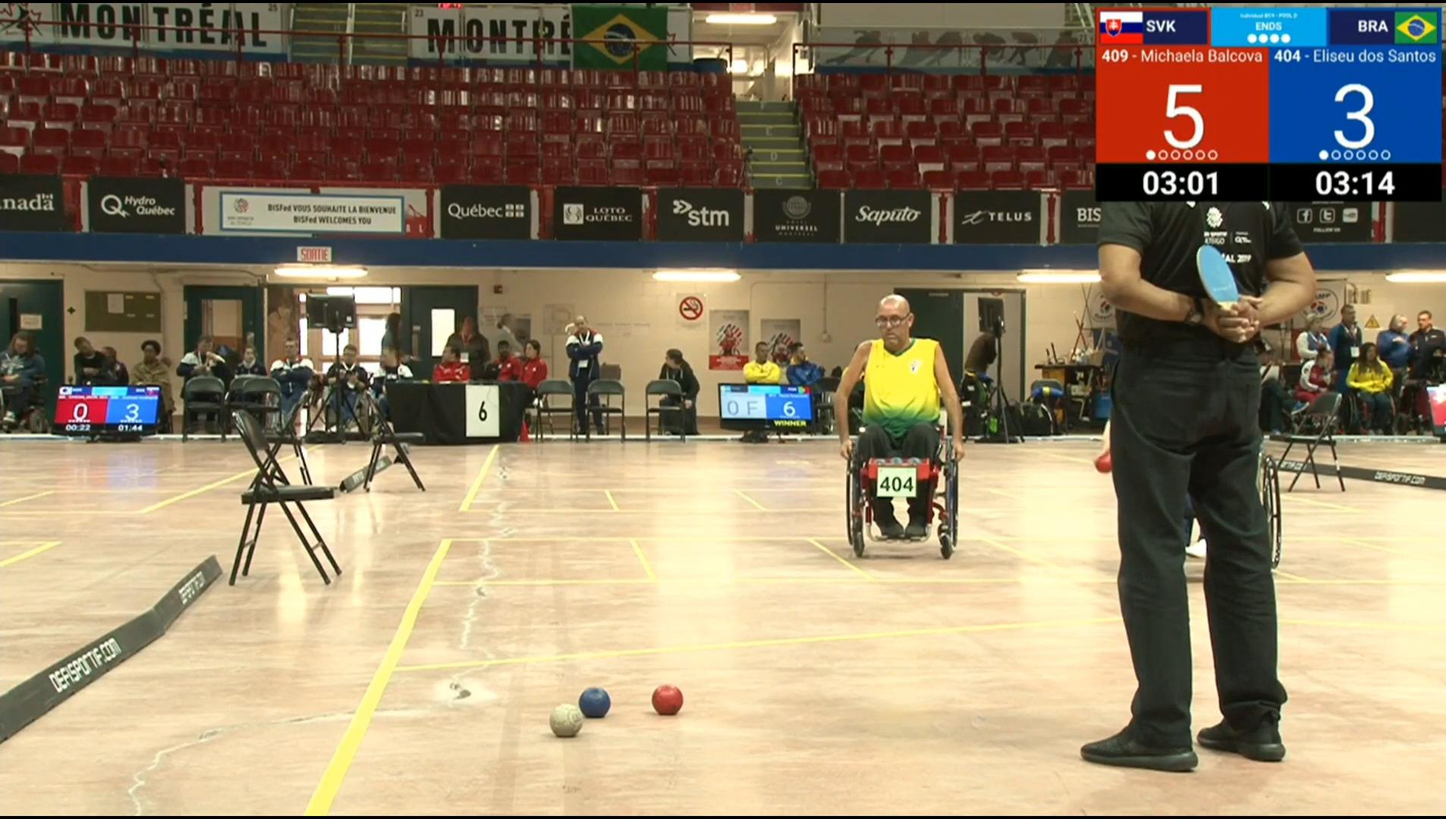blue_ball: (576, 684, 614, 722)
red_ball: (649, 683, 685, 717)
white_ball: (547, 702, 586, 739)
